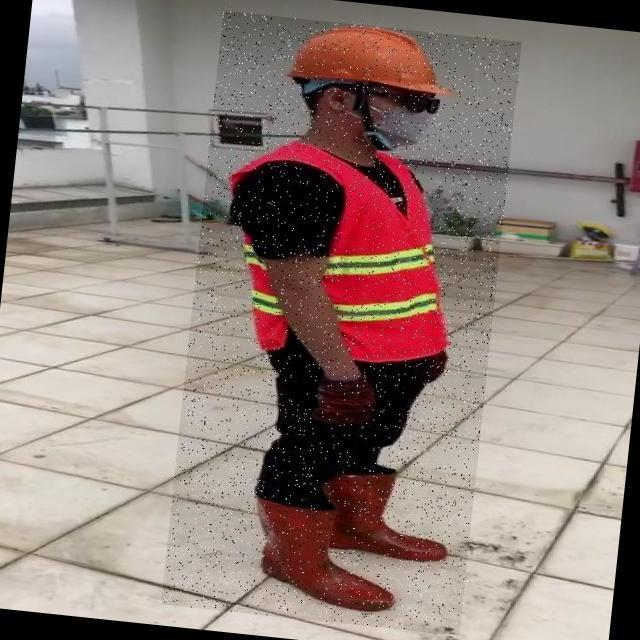Helmet: (266, 17, 457, 103)
Human: (161, 10, 522, 635)
Safety Boot: (246, 494, 404, 615), (312, 467, 455, 564)
Safety Vest: (205, 133, 464, 367)
